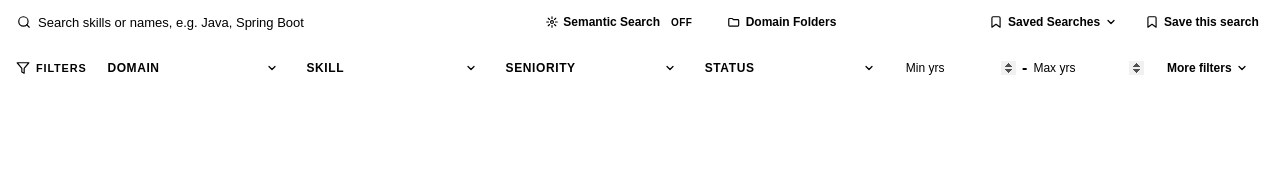
Test: ResumeFilters layout and labels › has the More filters panel in this order: ROLE, EDUCATION, INDUSTRY, Min salary, Max salary, Worked At
Click the button "More filters".
click(1208, 68)  # box [1156,53,1260,83]
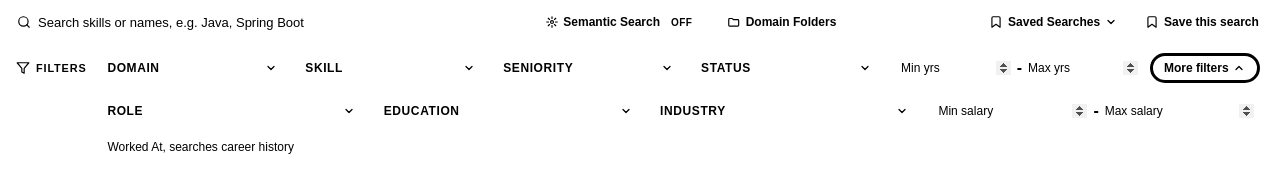
expect the field with placeholder "Worked At, searches career history" is shown: met, box [96,132,1260,162]
